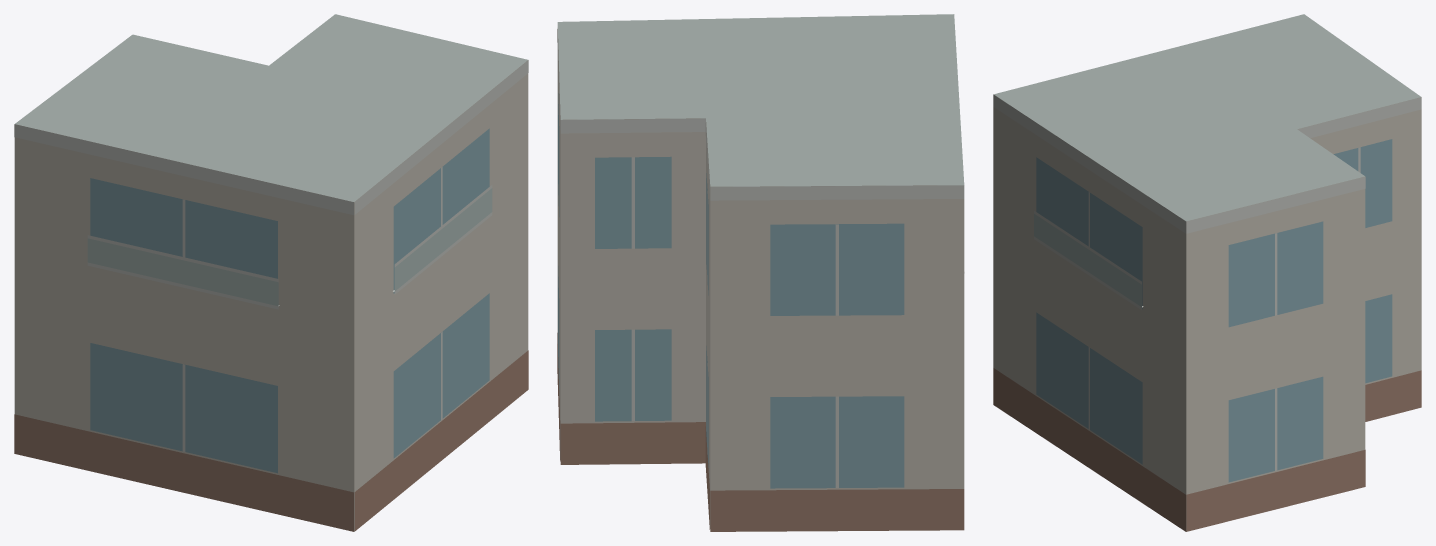
File: survey-upis-32765482.glb
3 views of the same model, side by side, from view 1: azimuth 30°, elevation 25°; view 2: azimuth 150°, elevation 25°; view 3: azimuth 270°, elevation 25° (orthographic). The views are drawn at different scales.
Visible parts, largest first — view 1: survey-upis-32765482.tmp; view 2: survey-upis-32765482.tmp; view 3: survey-upis-32765482.tmp.
Boxes of the visible parts, bbox=[...] form: survey-upis-32765482.tmp: bbox=[14, 14, 528, 531]; survey-upis-32765482.tmp: bbox=[557, 14, 964, 531]; survey-upis-32765482.tmp: bbox=[993, 14, 1421, 531].
Bounding box in the file's own units: 8.75 × 6.1 × 7.63.
